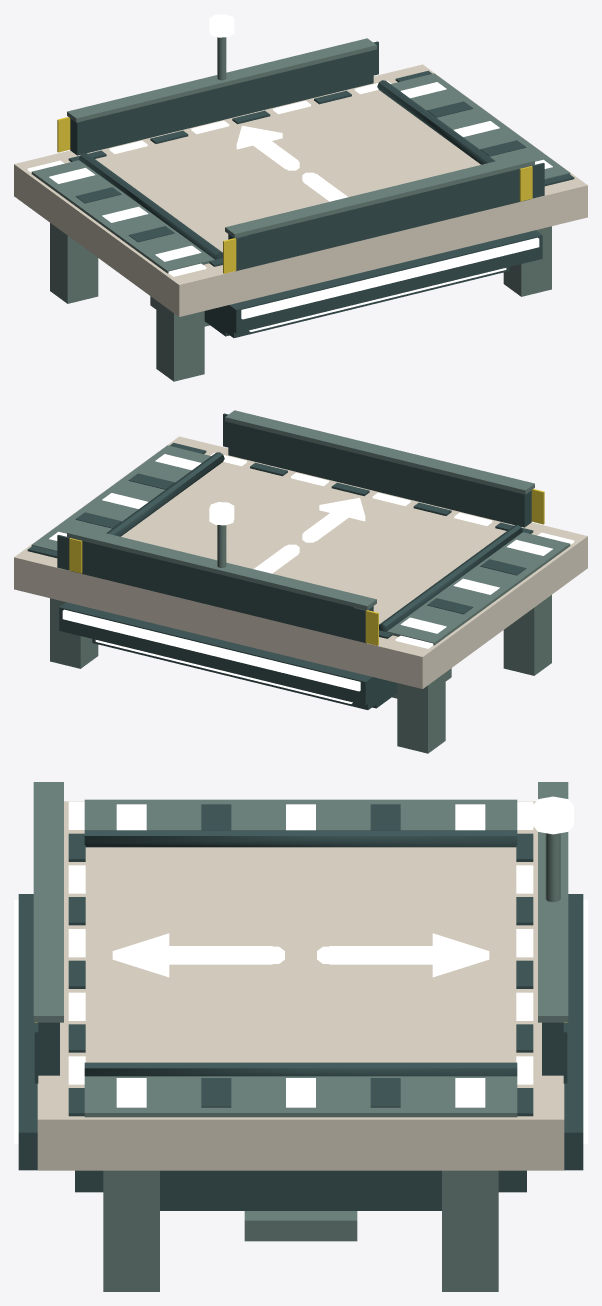
Rendered from Deck_Ferry_v4_4_lab.glb.
3 views of the same model, one above another, from view 1: azimuth 30°, elevation 25°; view 2: azimuth 150°, elevation 25°; view 3: azimuth 270°, elevation 25° (orthographic). The views are drawn at different scales.
Parts seen in each view (by area): view 1: Deck_Ferry_v4_4; view 2: Deck_Ferry_v4_4; view 3: Deck_Ferry_v4_4.
Boxes of the visible parts, x1,y1,x2,y2 form: Deck_Ferry_v4_4: (14, 14, 587, 381); Deck_Ferry_v4_4: (14, 410, 587, 753); Deck_Ferry_v4_4: (14, 782, 587, 1291).
Size of the model in its own units: 4 by 1.99 by 3.05.
